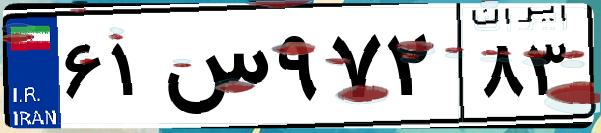1: (110, 28, 158, 98)
2: (385, 28, 445, 110)
3: (525, 38, 570, 115)
6: (57, 26, 110, 100)
7: (330, 28, 385, 110)
8: (475, 38, 525, 113)
9: (270, 28, 330, 110)
س: (158, 20, 270, 120)
